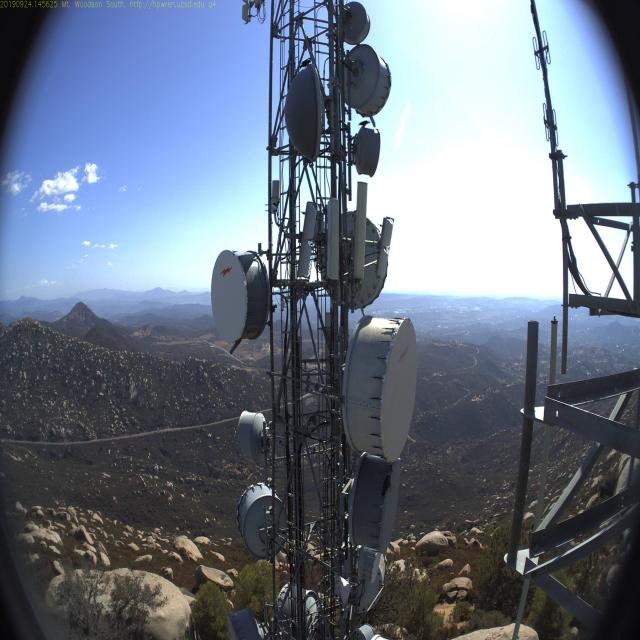smoke: (30, 293, 42, 308)
